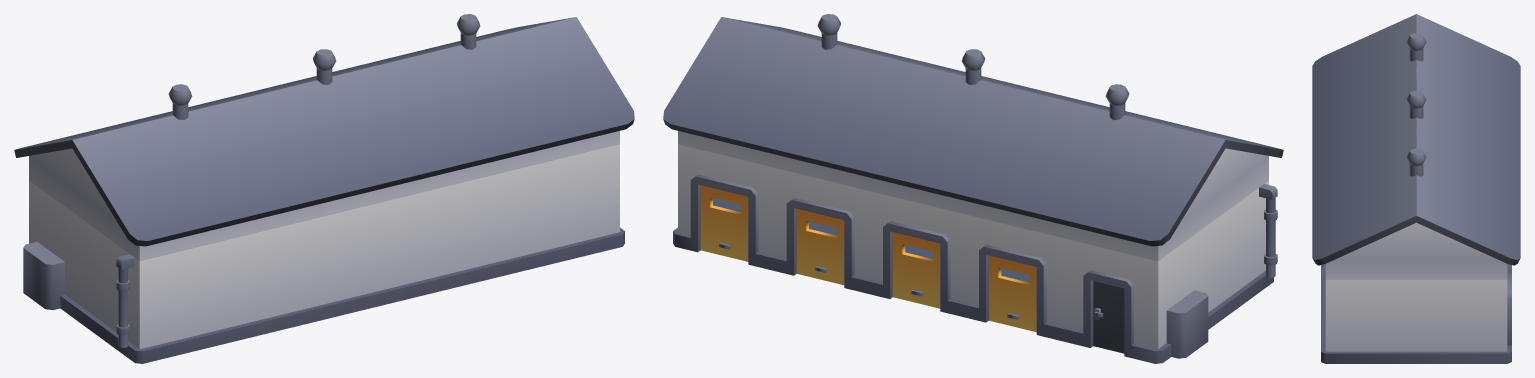
The model's file is building-s.fbx.
3 renders of one model, left to right at view 1: azimuth 30°, elevation 25°; view 2: azimuth 150°, elevation 25°; view 3: azimuth 270°, elevation 25°, orthographic. The views are drawn at different scales.
Parts seen in each view (by area): view 1: building-s; view 2: building-s; view 3: building-s.
Part boxes in pixels (bbox=[...]): building-s: bbox=[14, 14, 634, 363]; building-s: bbox=[663, 14, 1283, 363]; building-s: bbox=[1312, 14, 1520, 363].
Bounding box in the file's own units: 212 × 83.68 × 91.63.
1 material, 1 textured.
